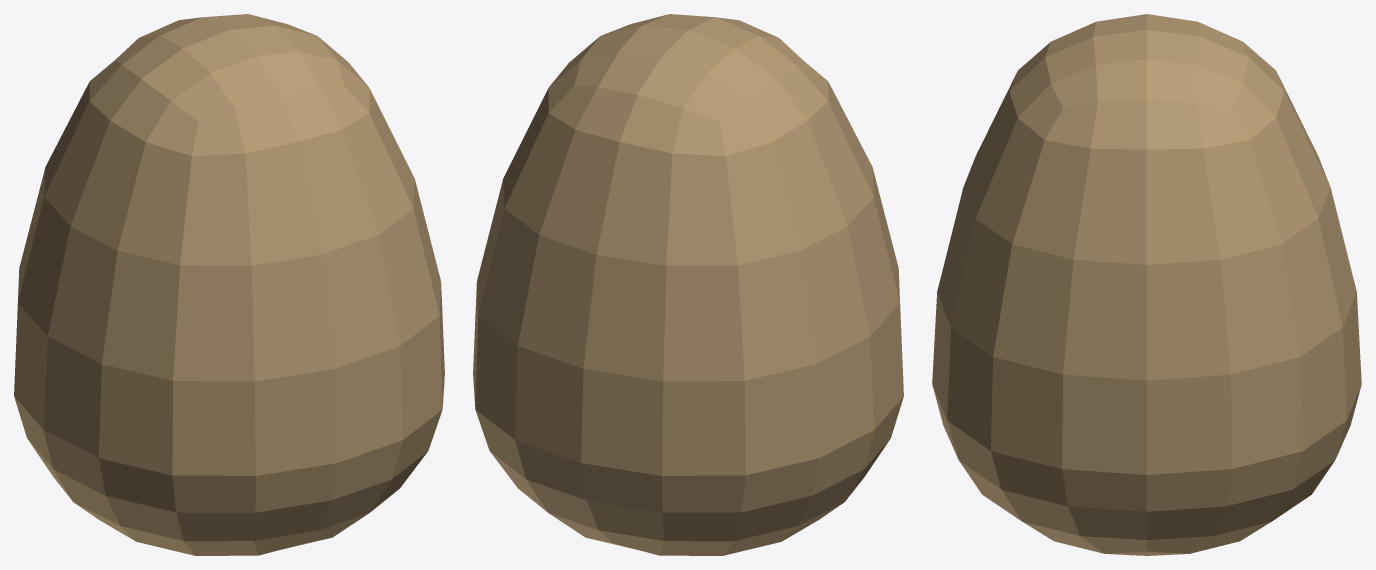
The model's file is egg_whole.glb.
The picture shows the model from 3 angles, left to right: view 1: azimuth 30°, elevation 25°; view 2: azimuth 150°, elevation 25°; view 3: azimuth 270°, elevation 25°; orthographic projection.
Parts seen in each view (by area): view 1: Egg_Whole; view 2: Egg_Whole; view 3: Egg_Whole.
Boxes of the visible parts, x1=… form: Egg_Whole: x1=14, y1=14, x2=444, y2=555; Egg_Whole: x1=473, y1=14, x2=903, y2=555; Egg_Whole: x1=932, y1=14, x2=1361, y2=555.
Size of the model in its own units: 0.3633 by 0.4659 by 0.3633.
